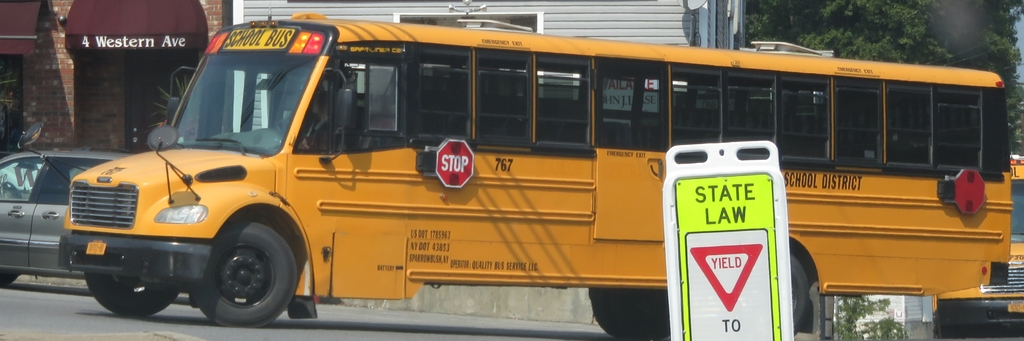Bus: (15, 10, 1011, 340), (929, 154, 1023, 337)
